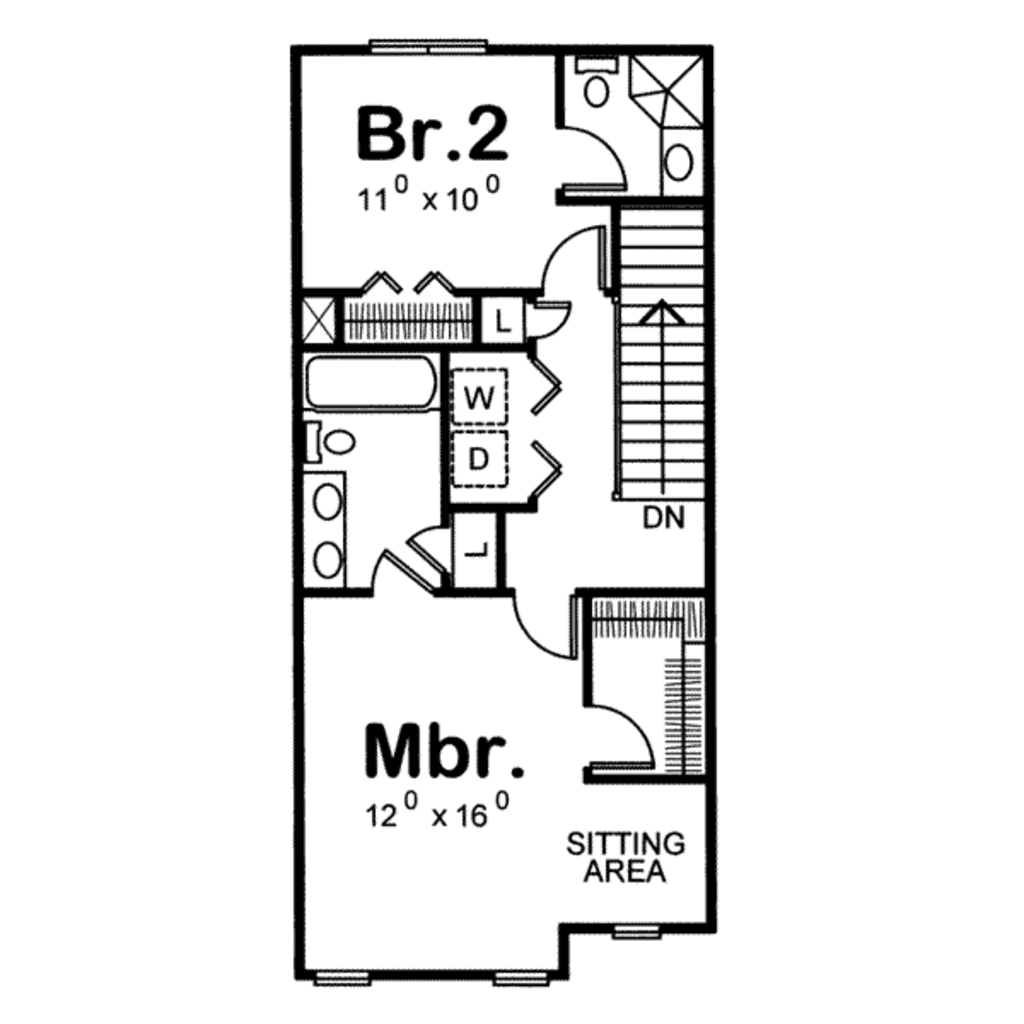door: (503, 585, 591, 667), (558, 114, 636, 199), (539, 221, 611, 299), (583, 705, 658, 767), (366, 544, 431, 596), (400, 525, 452, 582)
large_sink: (303, 417, 375, 475), (570, 44, 620, 114)
small_sink: (302, 472, 353, 588), (658, 124, 705, 192)
stairs: (611, 194, 722, 516)
tub: (301, 352, 437, 417)
window: (373, 30, 495, 64), (491, 964, 555, 989), (314, 961, 370, 989), (617, 921, 677, 946)
